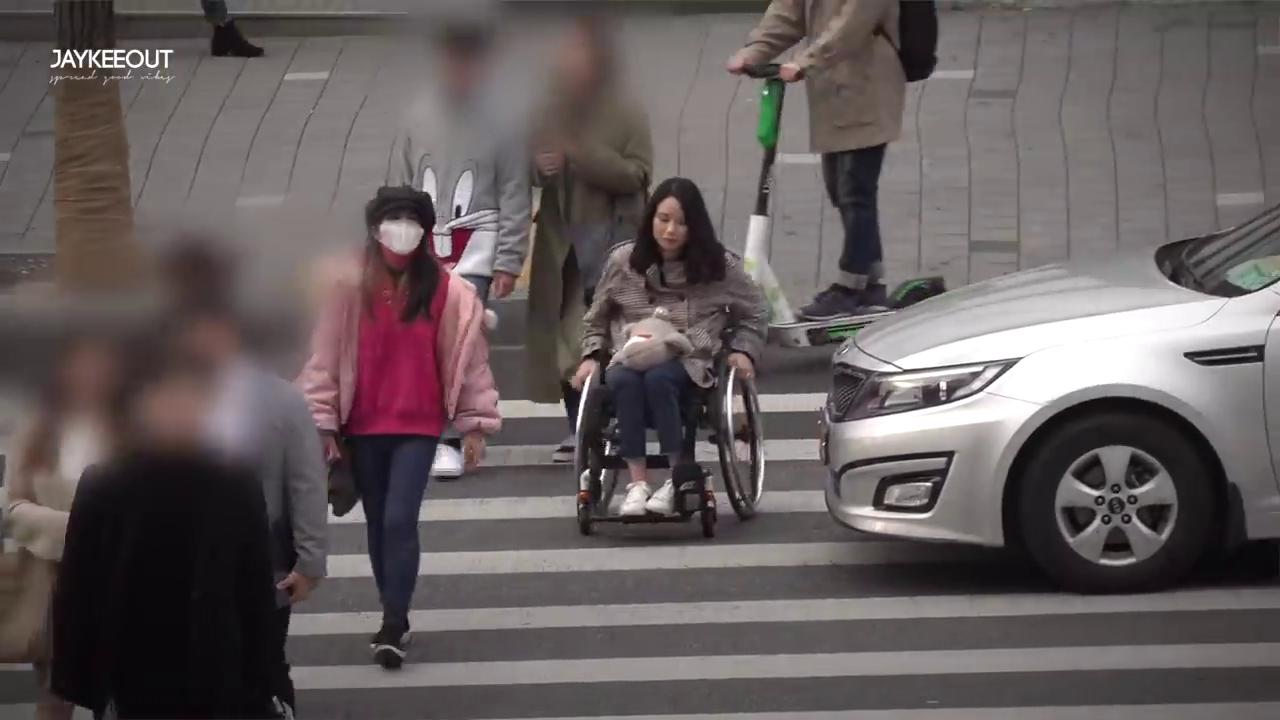wheelchair: (573, 177, 763, 536)
